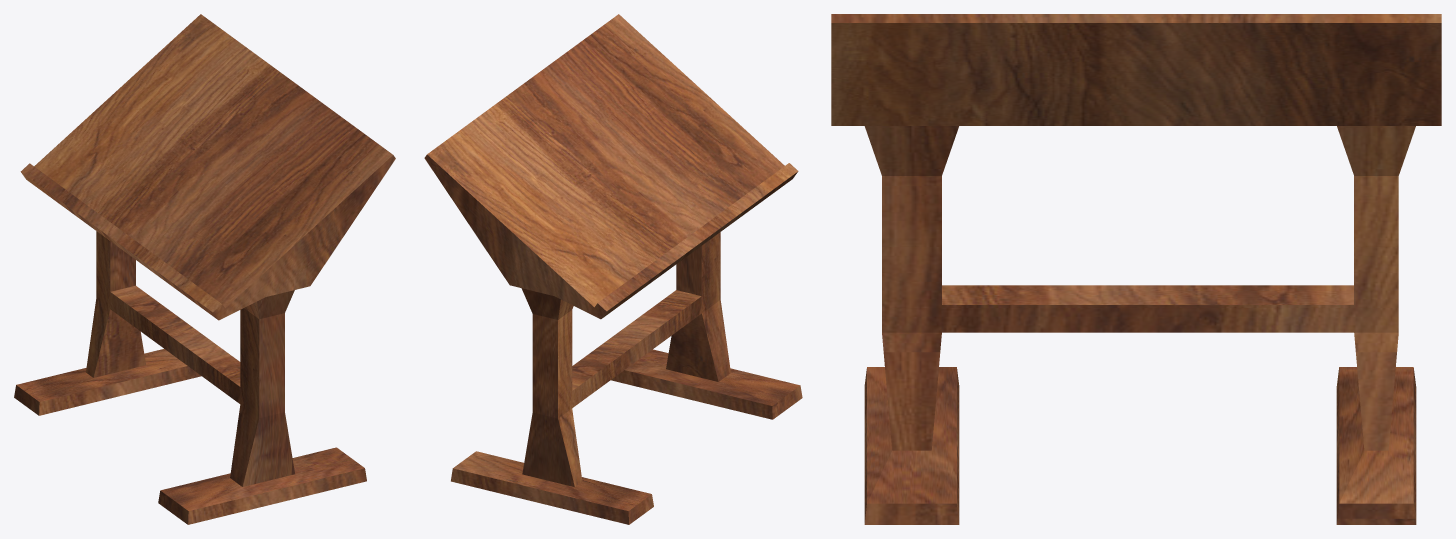
Rendered from drafting table.gltf.
3 renders of one model, left to right at view 1: azimuth 30°, elevation 25°; view 2: azimuth 150°, elevation 25°; view 3: azimuth 270°, elevation 25°, orthographic. The views are drawn at different scales.
Parts seen in each view (by area): view 1: Plane; view 2: Plane; view 3: Plane.
Part boxes in pixels (x1,y1,x2,y2): Plane: [14, 14, 395, 524]; Plane: [424, 14, 802, 524]; Plane: [831, 14, 1441, 524].
Size of the model in its own units: 0.5924 by 0.9463 by 1.
Materials: 1 (1 with a texture image).
